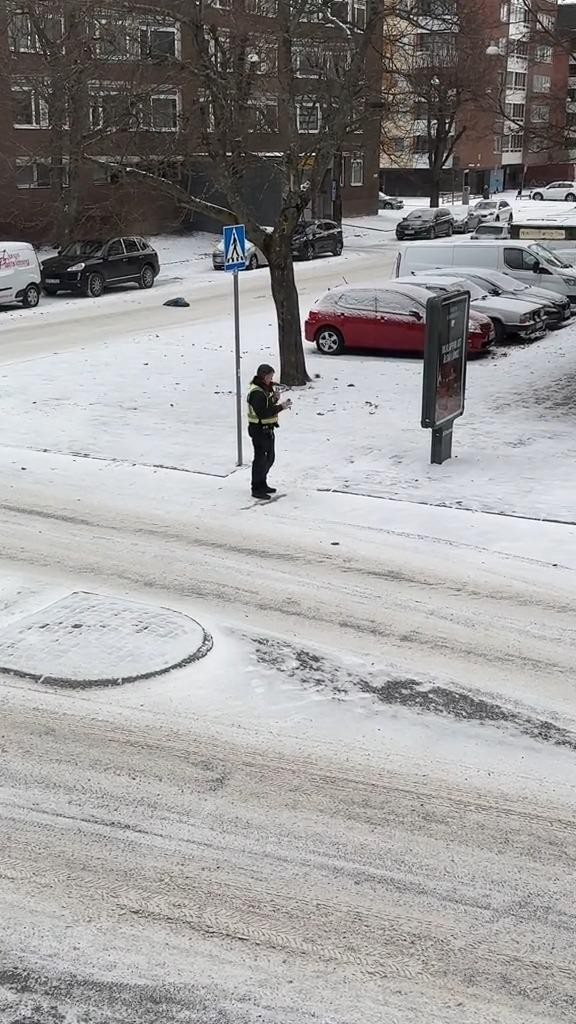parking-attendant: (247, 364, 291, 499)
